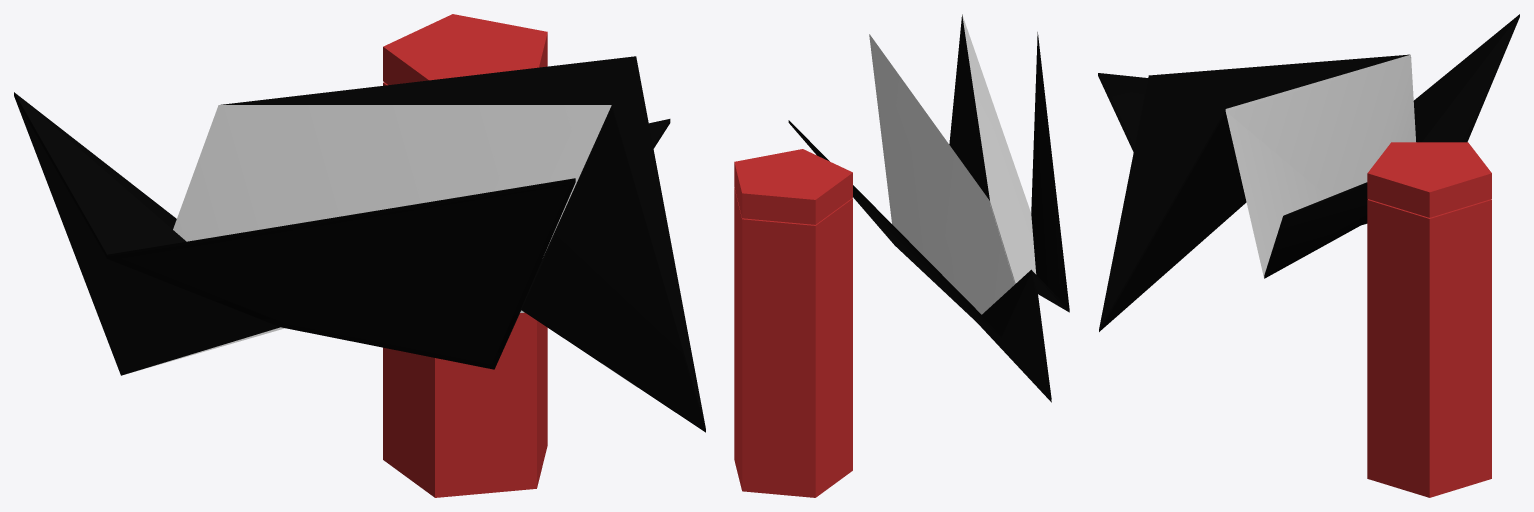
Rendered from Pinguin mit Waffe (rotate).fbx.
3 renders of one model, left to right at view 1: azimuth 30°, elevation 25°; view 2: azimuth 150°, elevation 25°; view 3: azimuth 270°, elevation 25°, orthographic. The views are drawn at different scales.
Visible parts, largest first — view 1: Würfel, Röhre, Röhre_1; view 2: Würfel, Röhre, Röhre_1; view 3: Würfel, Röhre, Röhre_1.
Boxes of the visible parts, box(x1,y1,x2,y2) form: Würfel: box(14, 56, 705, 432); Röhre: box(383, 82, 547, 497); Röhre_1: box(383, 14, 547, 84); Würfel: box(788, 14, 1069, 402); Röhre: box(734, 188, 852, 497); Röhre_1: box(734, 149, 852, 224); Würfel: box(1098, 14, 1519, 331); Röhre: box(1367, 199, 1491, 497); Röhre_1: box(1367, 142, 1491, 217).
Size of the model in its own units: 150 by 147 by 150.
